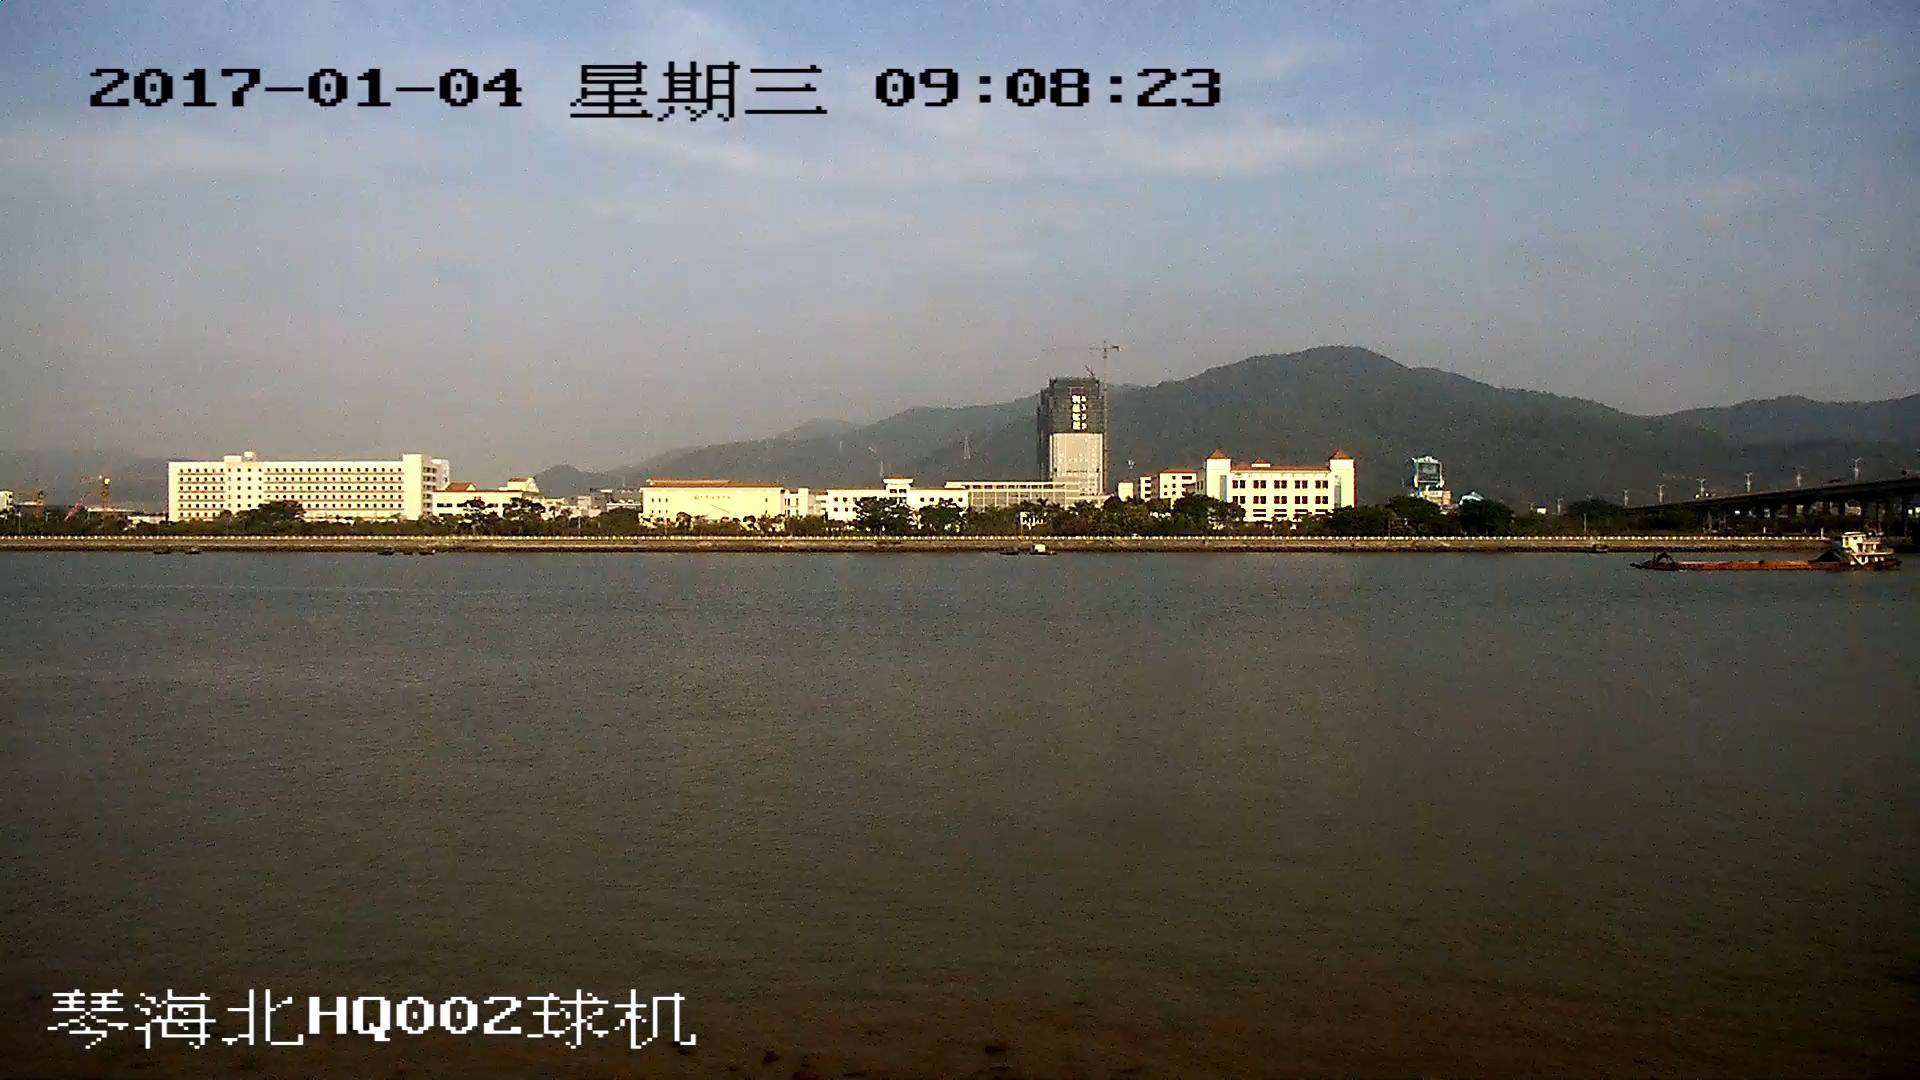Ship: (1643, 531, 1898, 576)
